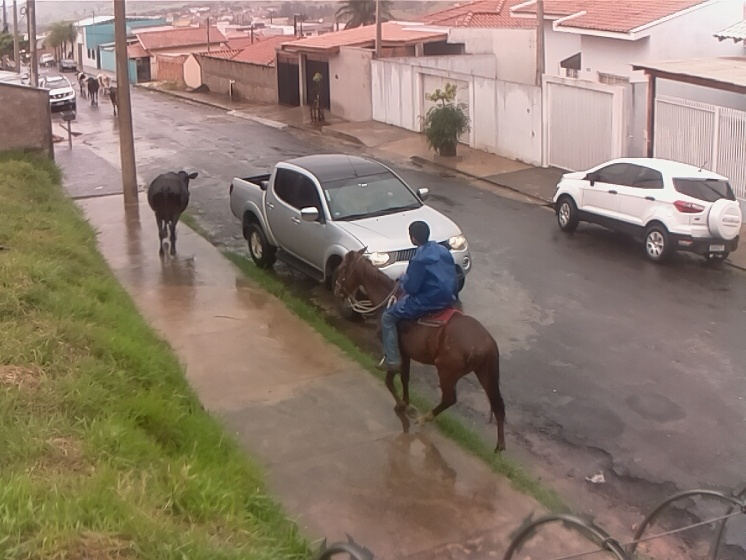person: (380, 218, 458, 373)
